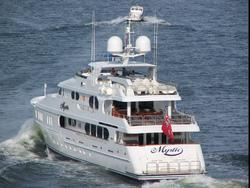yacht: (31, 10, 209, 179)
